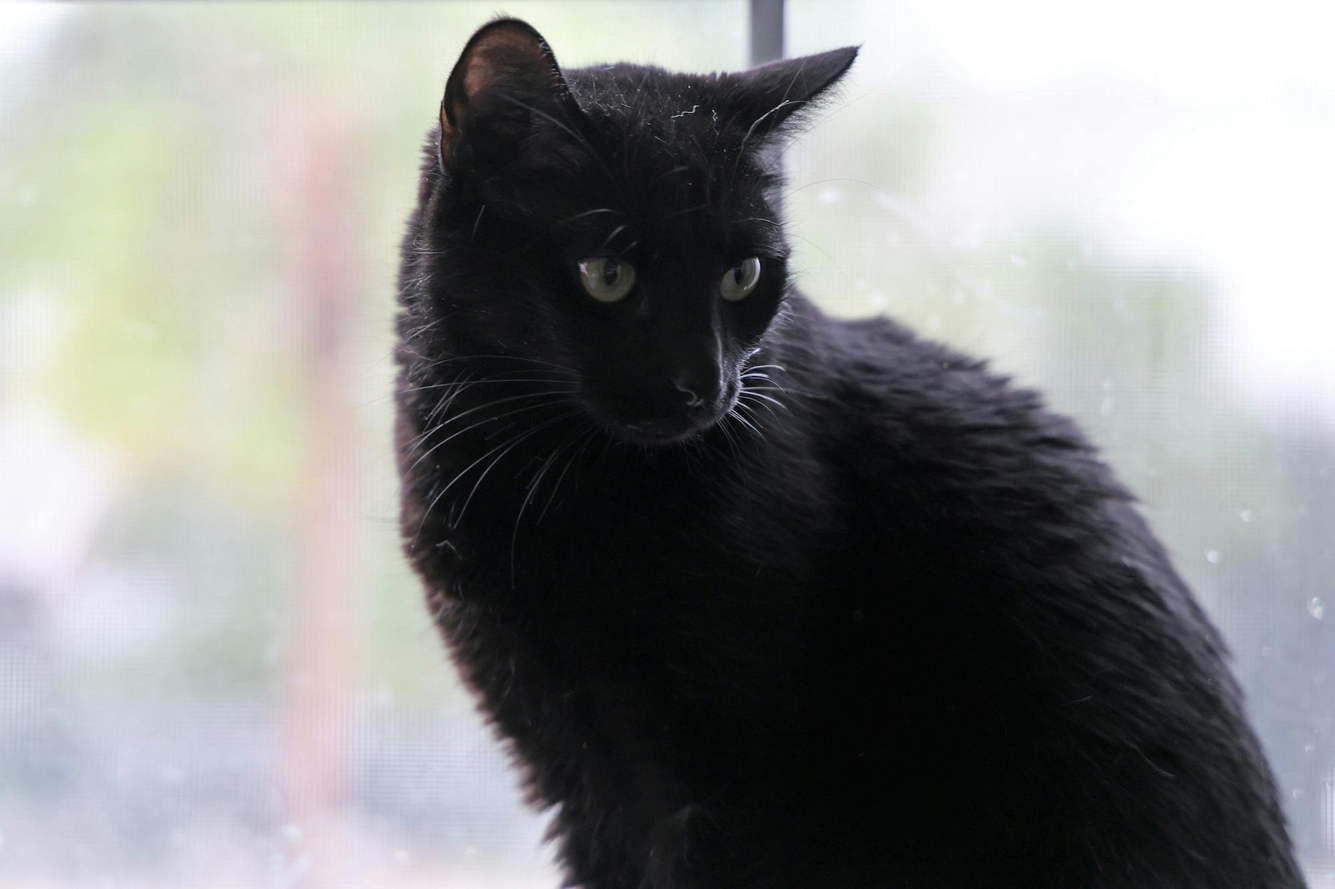Cat: (352, 9, 1316, 883)
